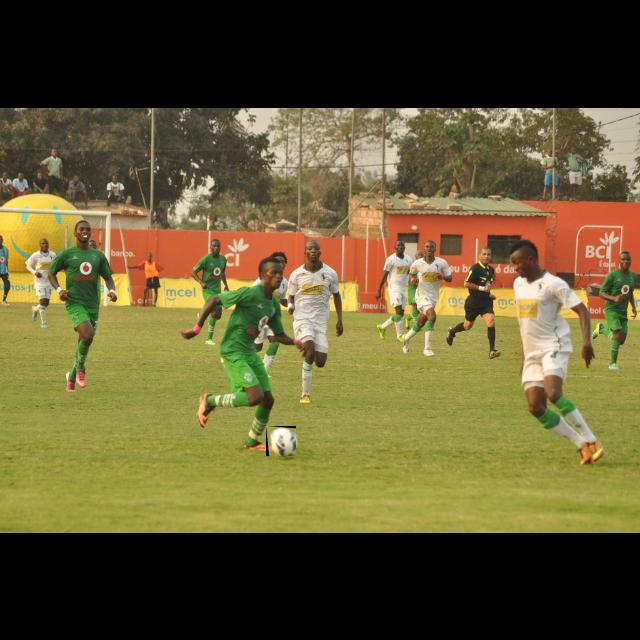Football: (266, 426, 296, 456)
